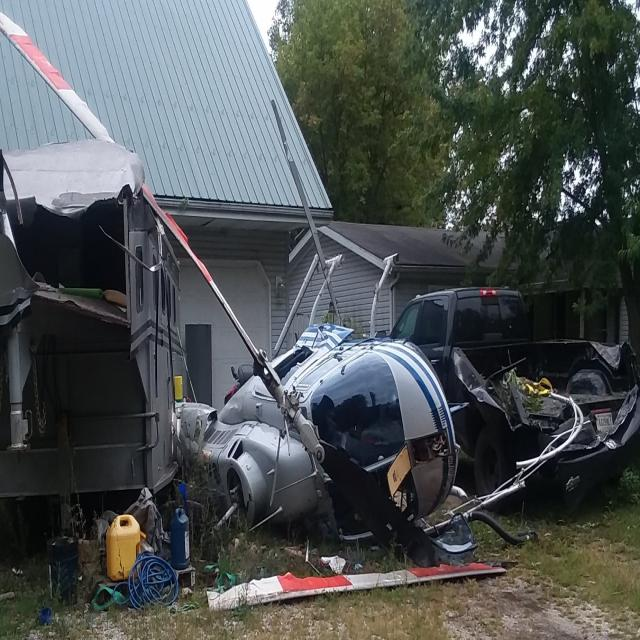helicopter: (176, 200, 479, 548)
